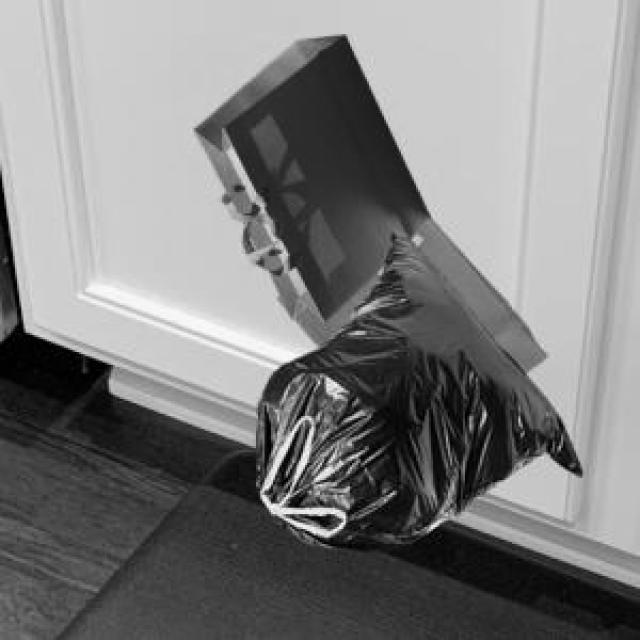miscellaneous trash: (252, 230, 578, 546)
paper: (190, 32, 427, 318), (290, 216, 542, 369)
